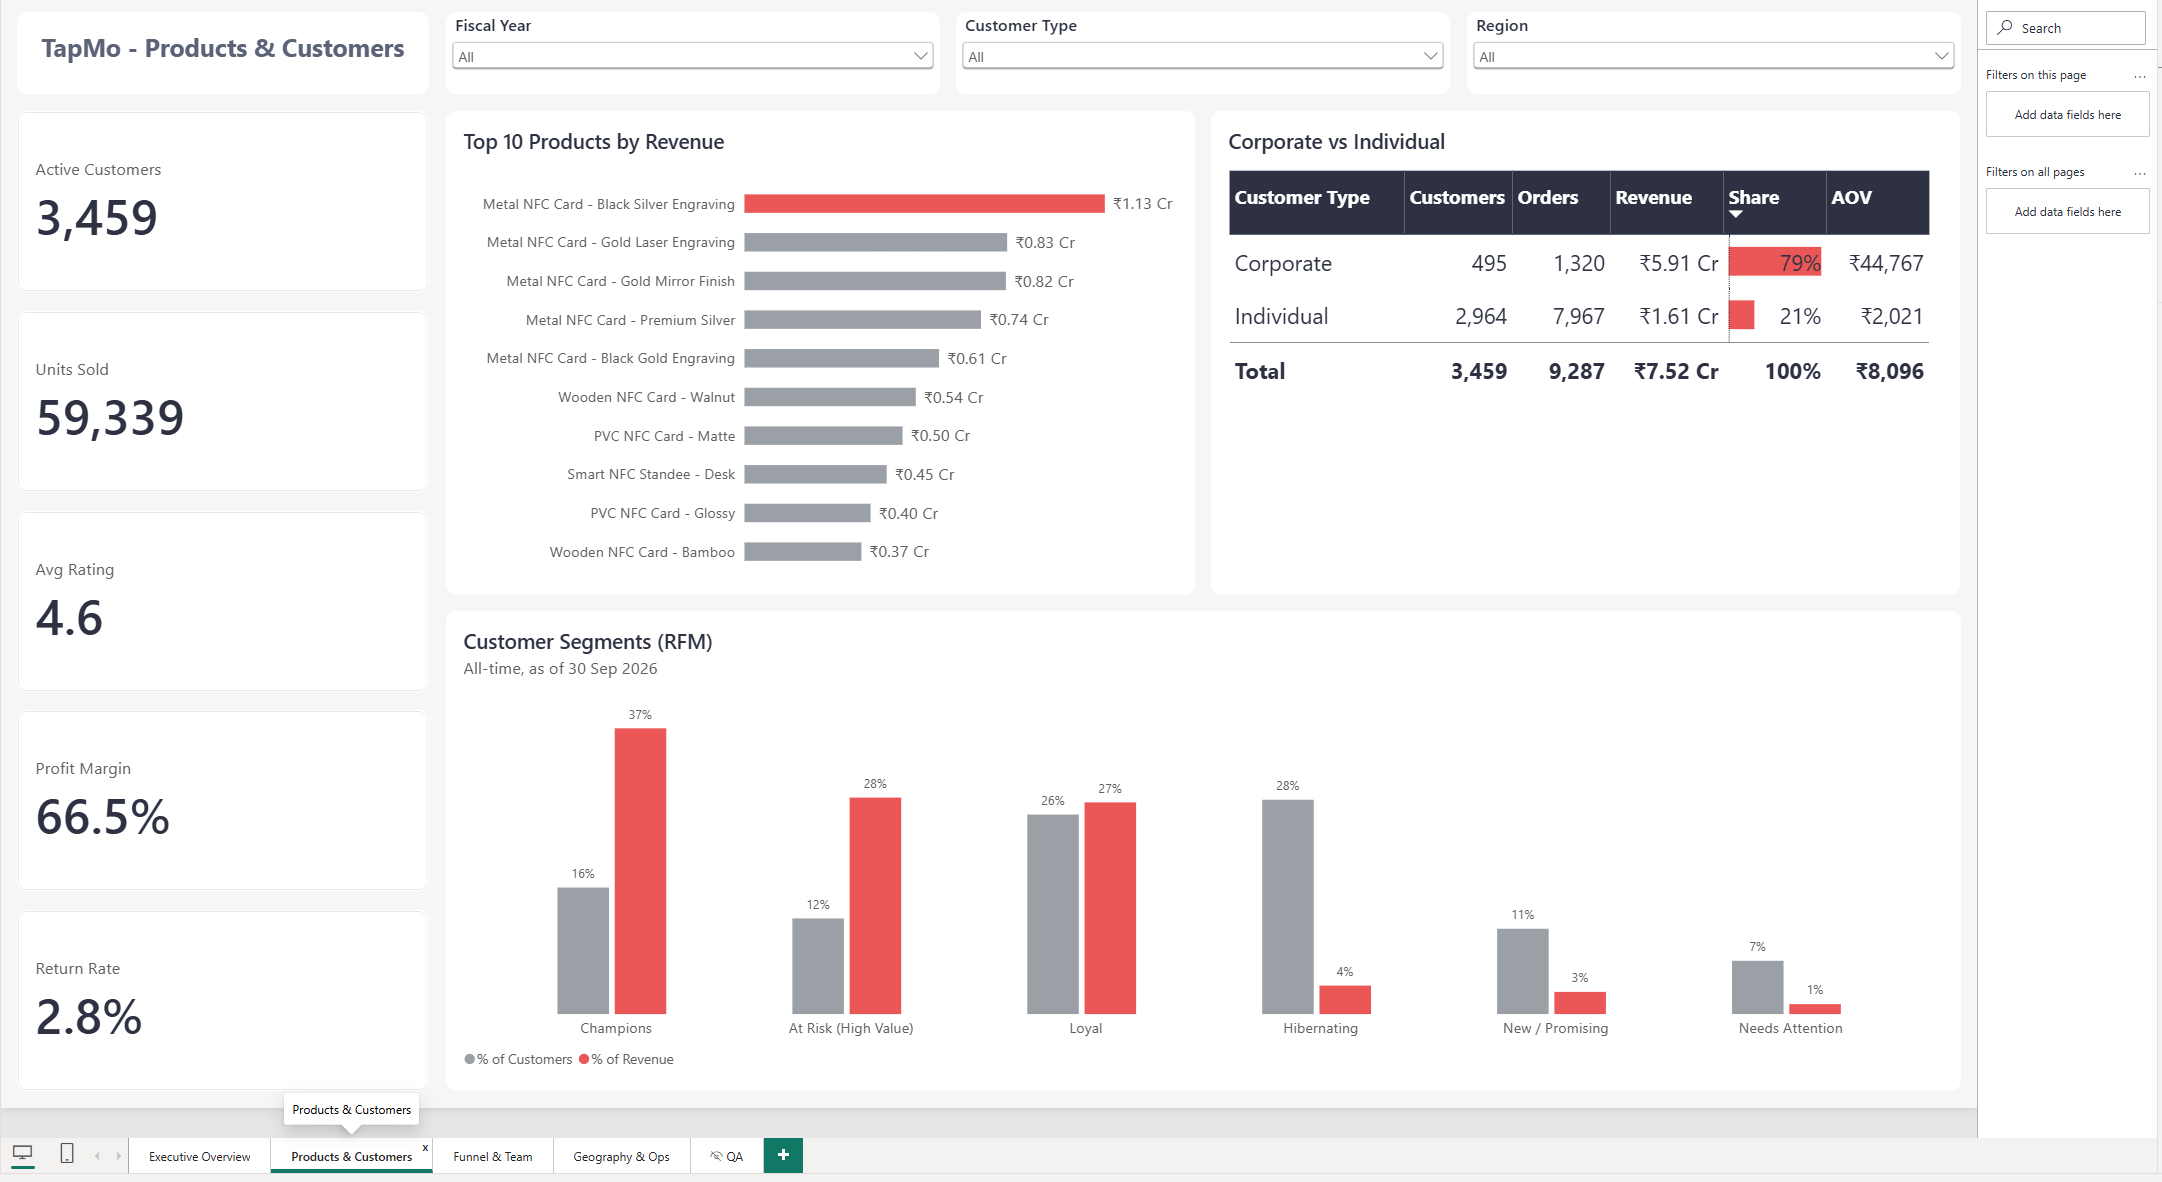

The page's visual inventory and layout, read from the dashboard file:
{"tool":"powerbi","page":{"name":"Products & Customers","canvas":[1920,1080],"ordinal":1},"visuals":[{"type":"textbox","box":[16,16,400,80],"z":0},{"type":"slicer","fields":{"Values":["tapmo dim_date.fiscal_year"]},"box":[432,16,480,80],"z":1000},{"type":"slicer","fields":{"Values":["tapmo dim_customer.customer_type"]},"box":[928,16,480,80],"z":2000},{"type":"slicer","fields":{"Values":["tapmo dim_customer.region"]},"box":[1424,16,480,80],"z":3000},{"type":"cardVisual","fields":{"Data":["_Measures.Customers (Card)"]},"box":[16,112,400,176],"z":4000},{"type":"cardVisual","fields":{"Data":["_Measures.Units (Card)"]},"box":[16,306,400,176],"z":5000},{"type":"cardVisual","fields":{"Data":["_Measures.Avg Rating"]},"box":[16,500,400,176],"z":6000},{"type":"cardVisual","fields":{"Data":["_Measures.Profit Margin %"]},"box":[16,694,400,176],"z":7000},{"type":"cardVisual","fields":{"Data":["_Measures.Return Rate %"]},"box":[16,888,400,176],"z":8000},{"type":"clusteredBarChart","title":"Top 10 Products by Revenue","fields":{"Category":["tapmo dim_product.product_name"],"Y":["_Measures.Revenue (Cr)"]},"box":[432,112,728,470],"z":8001},{"type":"tableEx","title":"Corporate vs Individual","fields":{"Values":["tapmo dim_customer.customer_type","_Measures.Active Customers","_Measures.Total Orders","_Measures.Revenue (Cr)","_Measures.Revenue Share %","_Measures.Avg Order Value"]},"box":[1176,112,728,470],"z":8002},{"type":"clusteredColumnChart","title":"Customer Segments (RFM)","fields":{"Category":["tapmo vw_rfm_segments.segment"],"Y":["_Measures.% of Customers","_Measures.% of Revenue"]},"box":[432,598,1472,466],"z":8003}]}

Visuals, with their boxes on the page's 1920x1080 design canvas (x1, y1, x2, y2). These are canvas units, not pixel positions in the 2162x1182 screenshot, which may show the page scaled, cropped or inside an application window:
textbox: locate(16, 16, 416, 96)
slicer - tapmo dim_date.fiscal_year: locate(432, 16, 912, 96)
slicer - tapmo dim_customer.customer_type: locate(928, 16, 1408, 96)
slicer - tapmo dim_customer.region: locate(1424, 16, 1904, 96)
cardVisual - _Measures.Customers (Card): locate(16, 112, 416, 288)
cardVisual - _Measures.Units (Card): locate(16, 306, 416, 482)
cardVisual - _Measures.Avg Rating: locate(16, 500, 416, 676)
cardVisual - _Measures.Profit Margin %: locate(16, 694, 416, 870)
cardVisual - _Measures.Return Rate %: locate(16, 888, 416, 1064)
"Top 10 Products by Revenue" clusteredBarChart: locate(432, 112, 1160, 582)
"Corporate vs Individual" tableEx: locate(1176, 112, 1904, 582)
"Customer Segments (RFM)" clusteredColumnChart: locate(432, 598, 1904, 1064)
